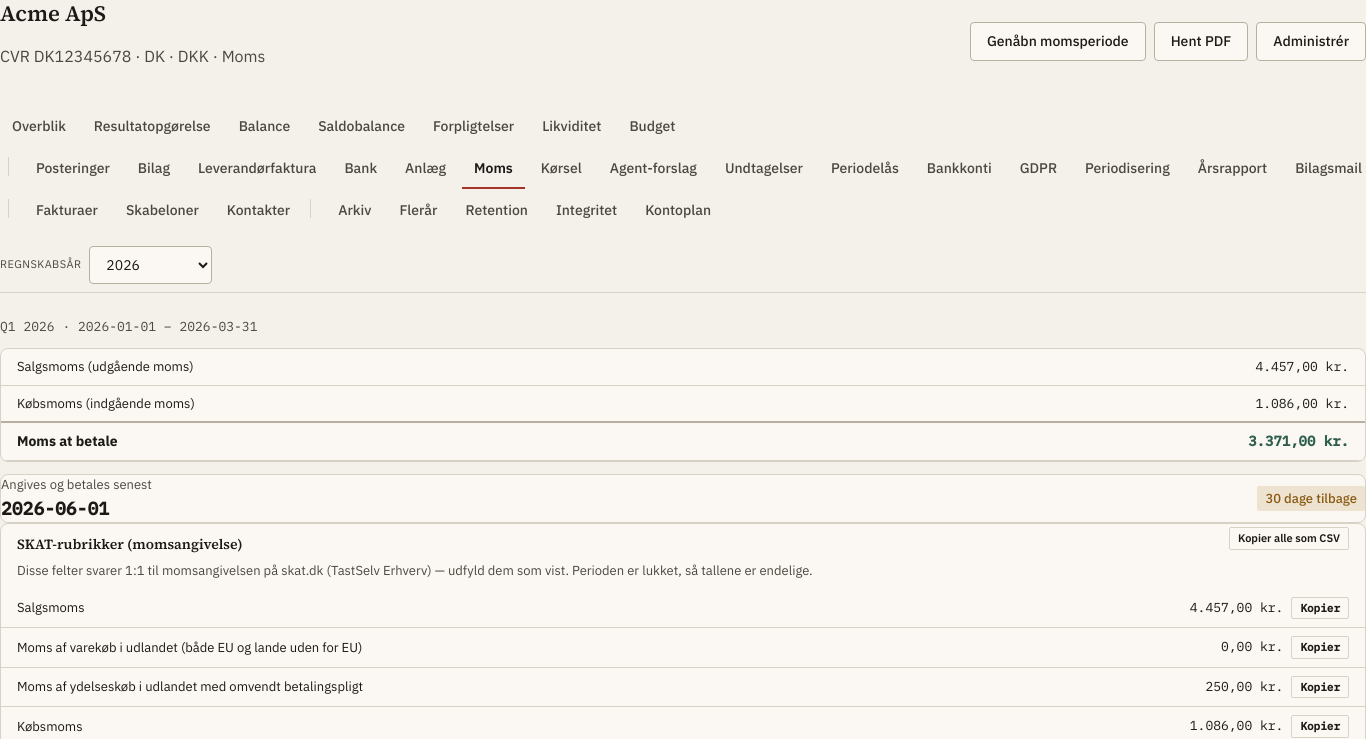
Test: VatView — Moms › offers a reopen action for a closed period and reopens it
Click the button "Genåbn momsperiode". click: click(1058, 42)
box: left=970, top=22, right=1146, bottom=61
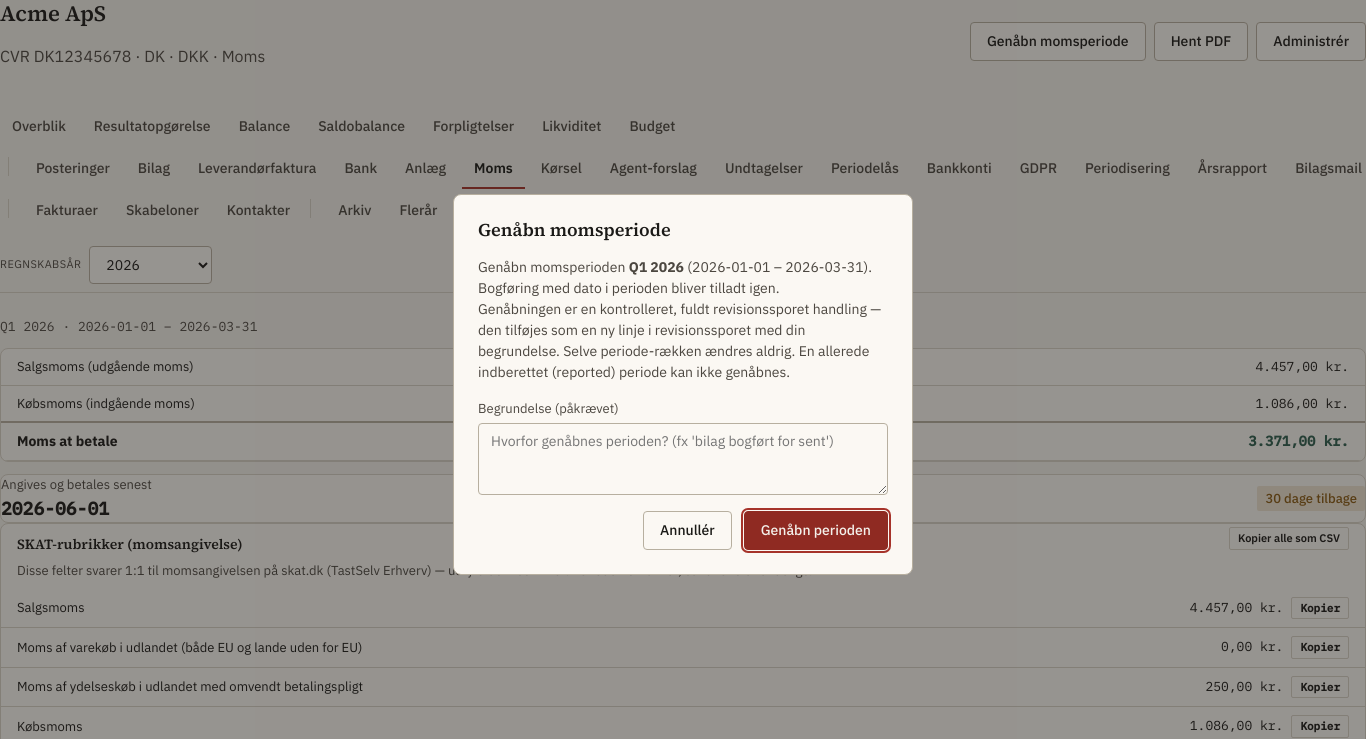
// The reopen requires a free-text reason recorded in the audit log.
Type "bilag bogført for sent" into the text box. click: (683, 458)
box: left=478, top=422, right=888, bottom=494
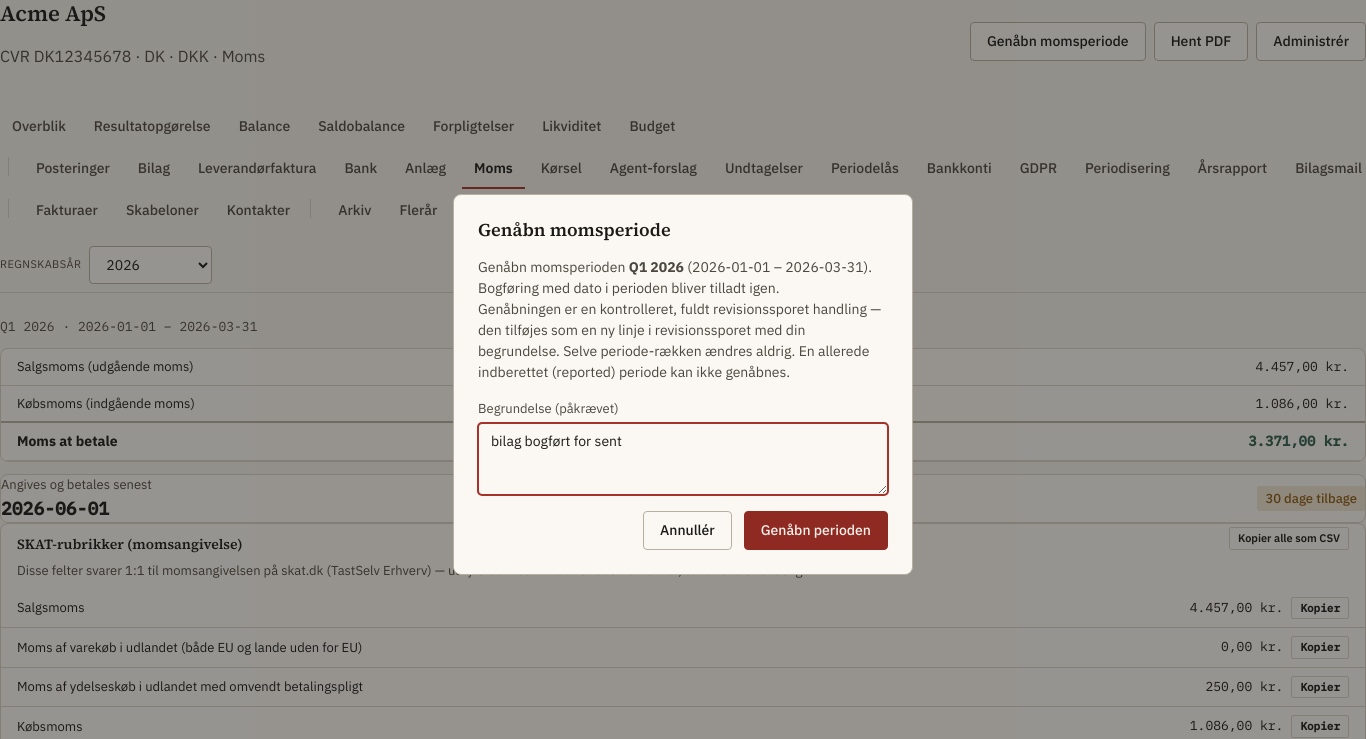
Click the button "Genåbn perioden". click: click(816, 530)
box: left=744, top=510, right=888, bottom=550
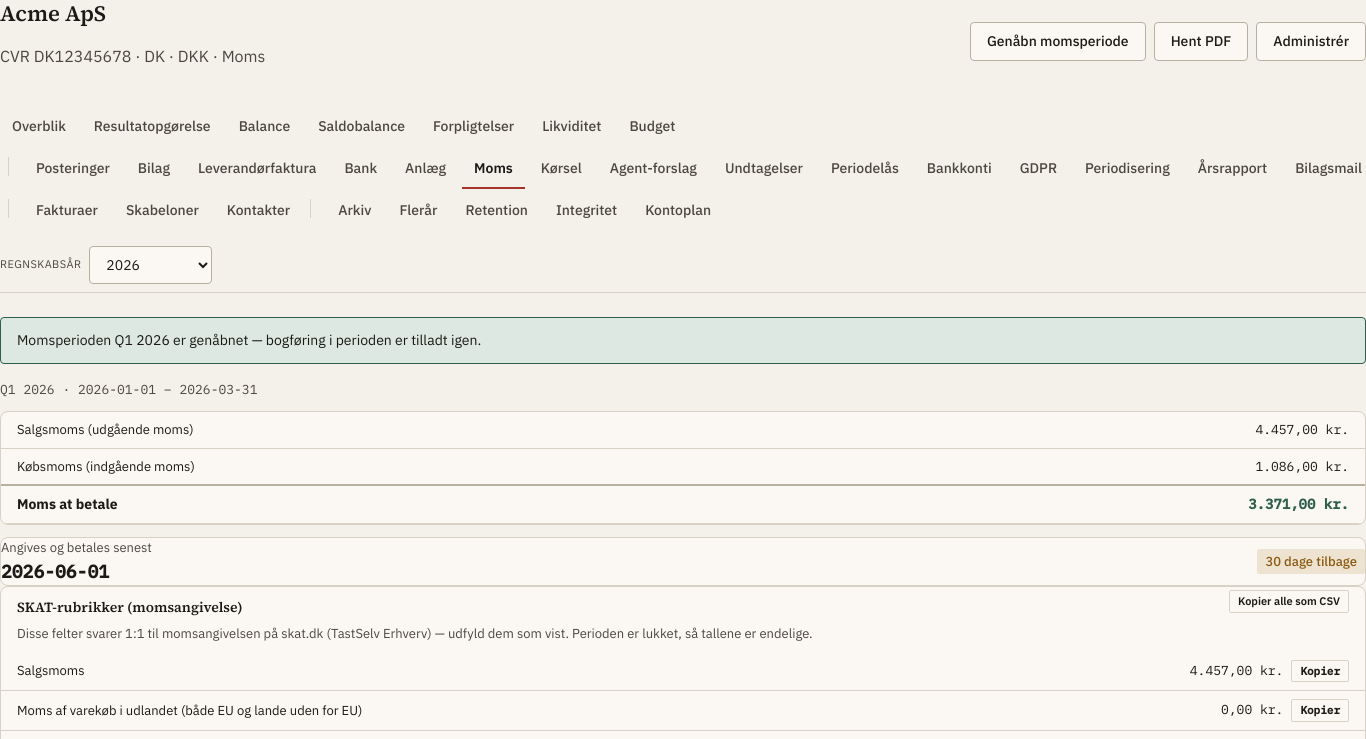
Expected: the text "Momsperioden Q1 2026 er genåbnet — bogføring i perioden er tilladt igen." is shown, left=0, top=316, right=1365, bottom=364
